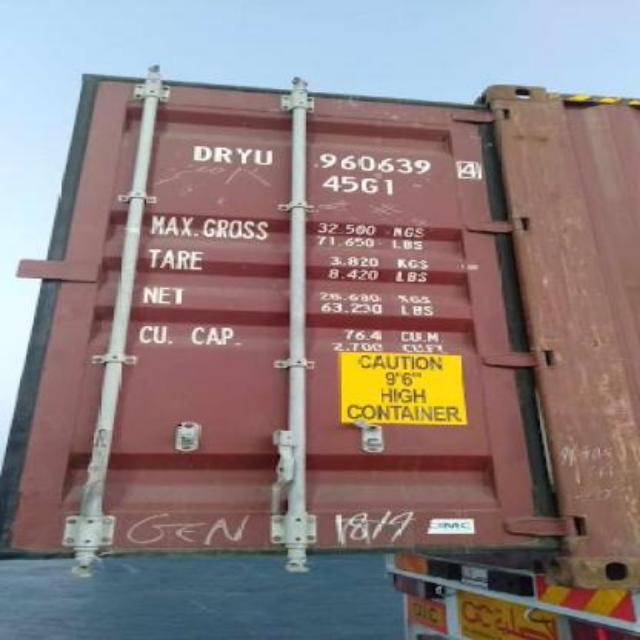0: (360, 156, 378, 172)
3: (394, 156, 414, 174)
4: (460, 162, 478, 178)
6: (378, 157, 396, 173), (338, 156, 358, 170)
9: (412, 158, 430, 174), (320, 153, 336, 169)
D: (192, 144, 210, 162)
R: (216, 147, 232, 163)
U: (256, 149, 276, 167)
Y: (235, 146, 251, 166)
